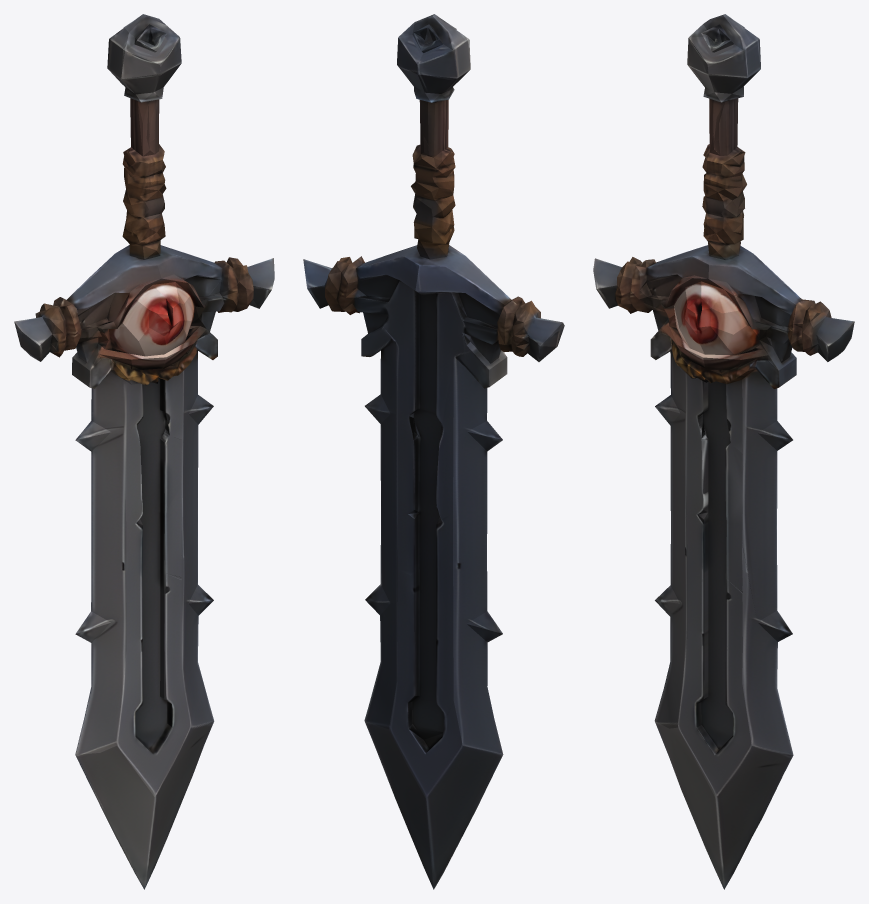
The model's file is base_basic_pbr.fbx.
3 views of the same model, side by side, from view 1: azimuth 30°, elevation 25°; view 2: azimuth 150°, elevation 25°; view 3: azimuth 330°, elevation 25° (orthographic).
Parts seen in each view (by area): view 1: model; view 2: model; view 3: model.
Boxes of the visible parts, left/top/right/bottom form: model: left=14, top=14, right=274, bottom=889; model: left=303, top=14, right=564, bottom=889; model: left=593, top=14, right=854, bottom=889.
Bounding box in the file's own units: 51.36 × 165 × 15.22.
Materials: 1 (1 with a texture image).
